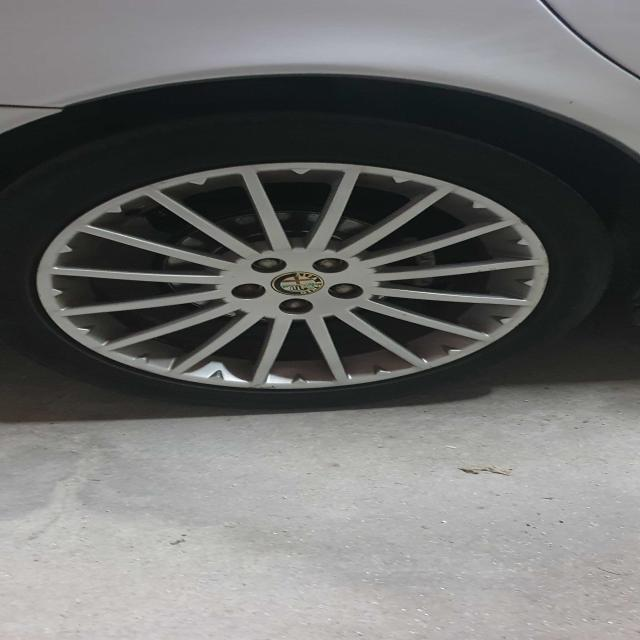jante: (35, 162, 550, 393)
parafuso: (230, 282, 266, 300), (250, 257, 288, 274), (278, 298, 313, 315), (327, 283, 364, 299), (313, 258, 350, 273)
roda: (9, 115, 622, 408)
